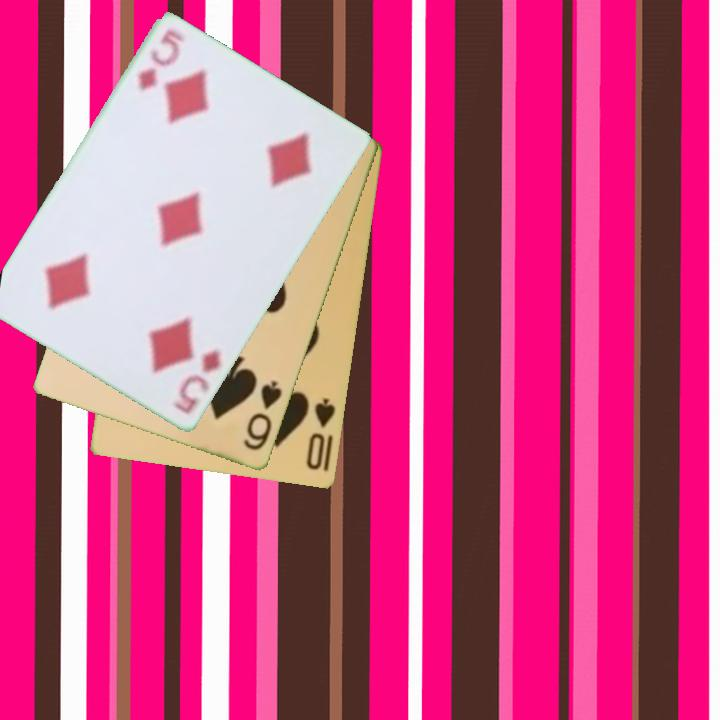10s: (303, 395, 339, 474)
5d: (168, 346, 225, 418), (134, 26, 185, 95)
6s: (240, 377, 285, 454)
